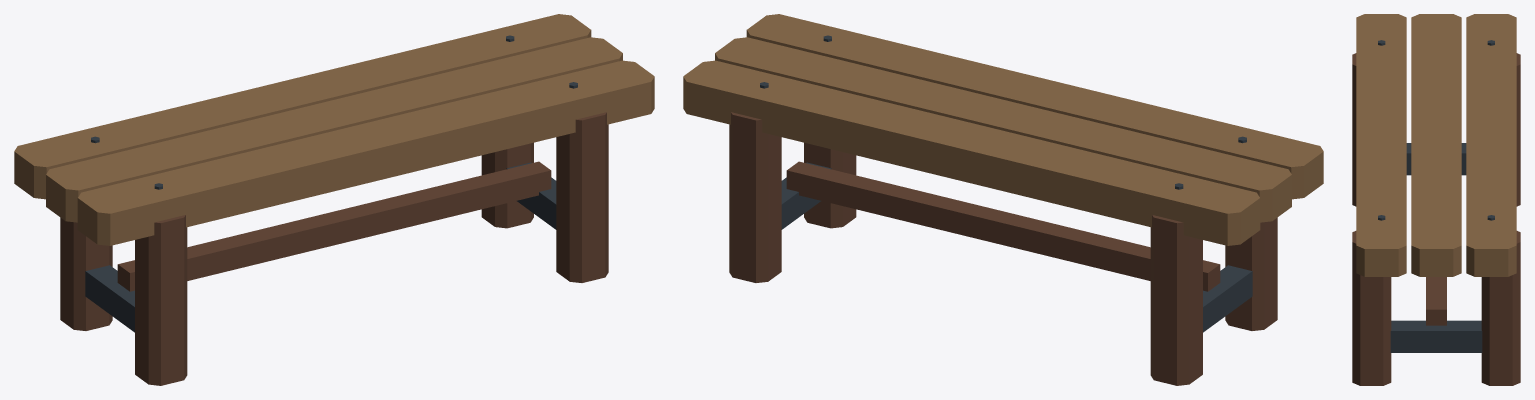
The model's file is rest_bench.glb.
The picture shows the model from 3 angles, left to right: view 1: azimuth 30°, elevation 25°; view 2: azimuth 150°, elevation 25°; view 3: azimuth 270°, elevation 25°; orthographic projection. The views are drawn at different scales.
Parts seen in each view (by area): view 1: geometry; view 2: geometry; view 3: geometry.
Part boxes in pixels (x1,y1,x2,y2): geometry: (14,14,654,385); geometry: (683,14,1323,385); geometry: (1352,14,1520,385).
Size of the model in its own units: 1.72 by 0.545 by 0.52.
